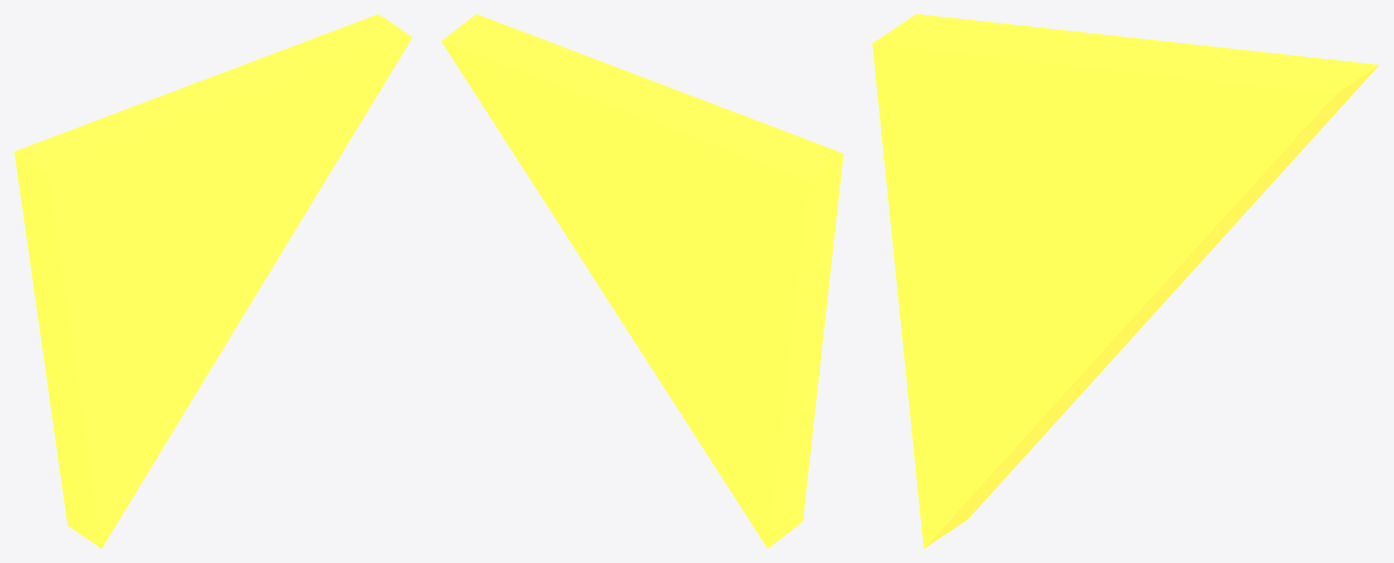
The model's file is arrow_02_pipa2.fbx.
3 views of the same model, side by side, from view 1: azimuth 30°, elevation 25°; view 2: azimuth 150°, elevation 25°; view 3: azimuth 330°, elevation 25° (orthographic). The views are drawn at different scales.
Visible parts, largest first — view 1: Cube.034; view 2: Cube.034; view 3: Cube.034.
Boxes of the visible parts, x1,y1,x2,y2 form: Cube.034: (14,14,412,548); Cube.034: (441,14,843,548); Cube.034: (872,14,1378,548).
Size of the model in its own units: 4.09 by 4.63 by 0.7967.
